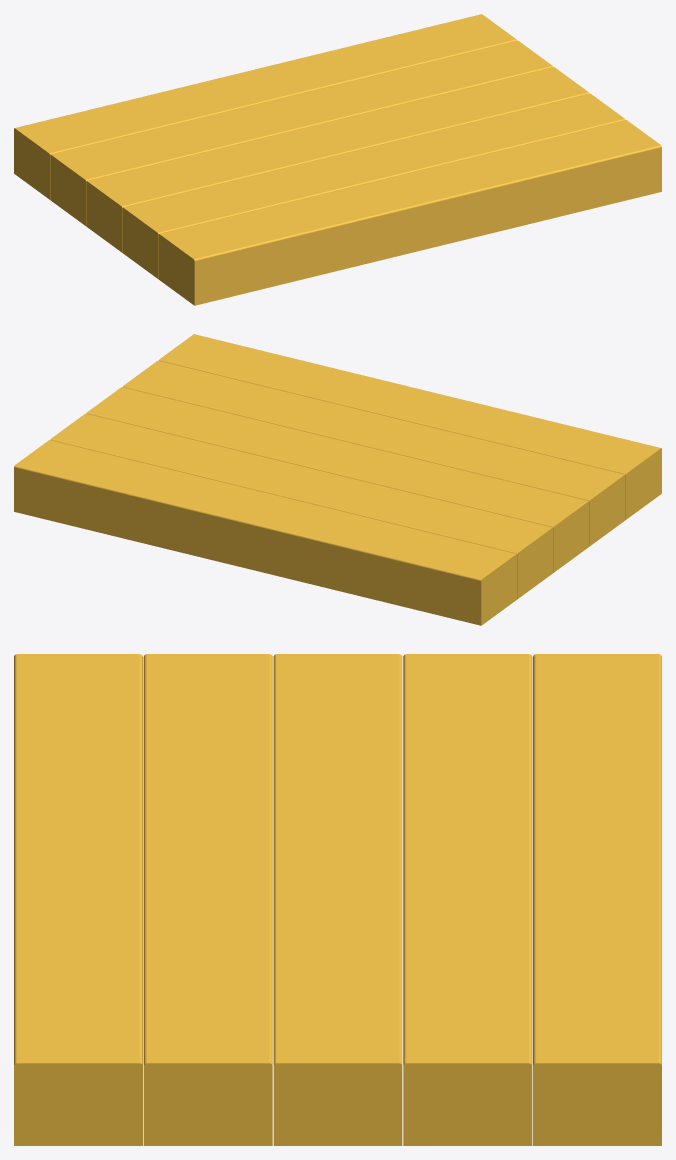
Rendered from Background.fbx.
3 views of the same model, one above another, from view 1: azimuth 30°, elevation 25°; view 2: azimuth 150°, elevation 25°; view 3: azimuth 270°, elevation 25° (orthographic). The views are drawn at different scales.
Parts seen in each view (by area): view 1: Cube_4, Cube_3, Cube_1, Cube_2, Cube_5; view 2: Cube_5, Cube_3, Cube_1, Cube_2, Cube_4; view 3: Cube_3, Cube_1, Cube_2, Cube_5, Cube_4.
Part boxes in pixels (x1,y1,x2,y2): Cube_4: (158, 120, 661, 305); Cube_3: (122, 93, 625, 279); Cube_1: (50, 40, 552, 225); Cube_2: (86, 67, 589, 252); Cube_5: (14, 14, 516, 199); Cube_5: (14, 440, 517, 625); Cube_3: (123, 360, 625, 545); Cube_1: (50, 413, 553, 599); Cube_2: (86, 387, 589, 572); Cube_4: (159, 334, 661, 519); Cube_3: (143, 654, 272, 1145); Cube_1: (403, 654, 532, 1145); Cube_2: (273, 654, 402, 1145); Cube_5: (533, 654, 661, 1145); Cube_4: (14, 654, 142, 1145).
Bounding box in the file's own units: 2341 × 220 × 1567.
